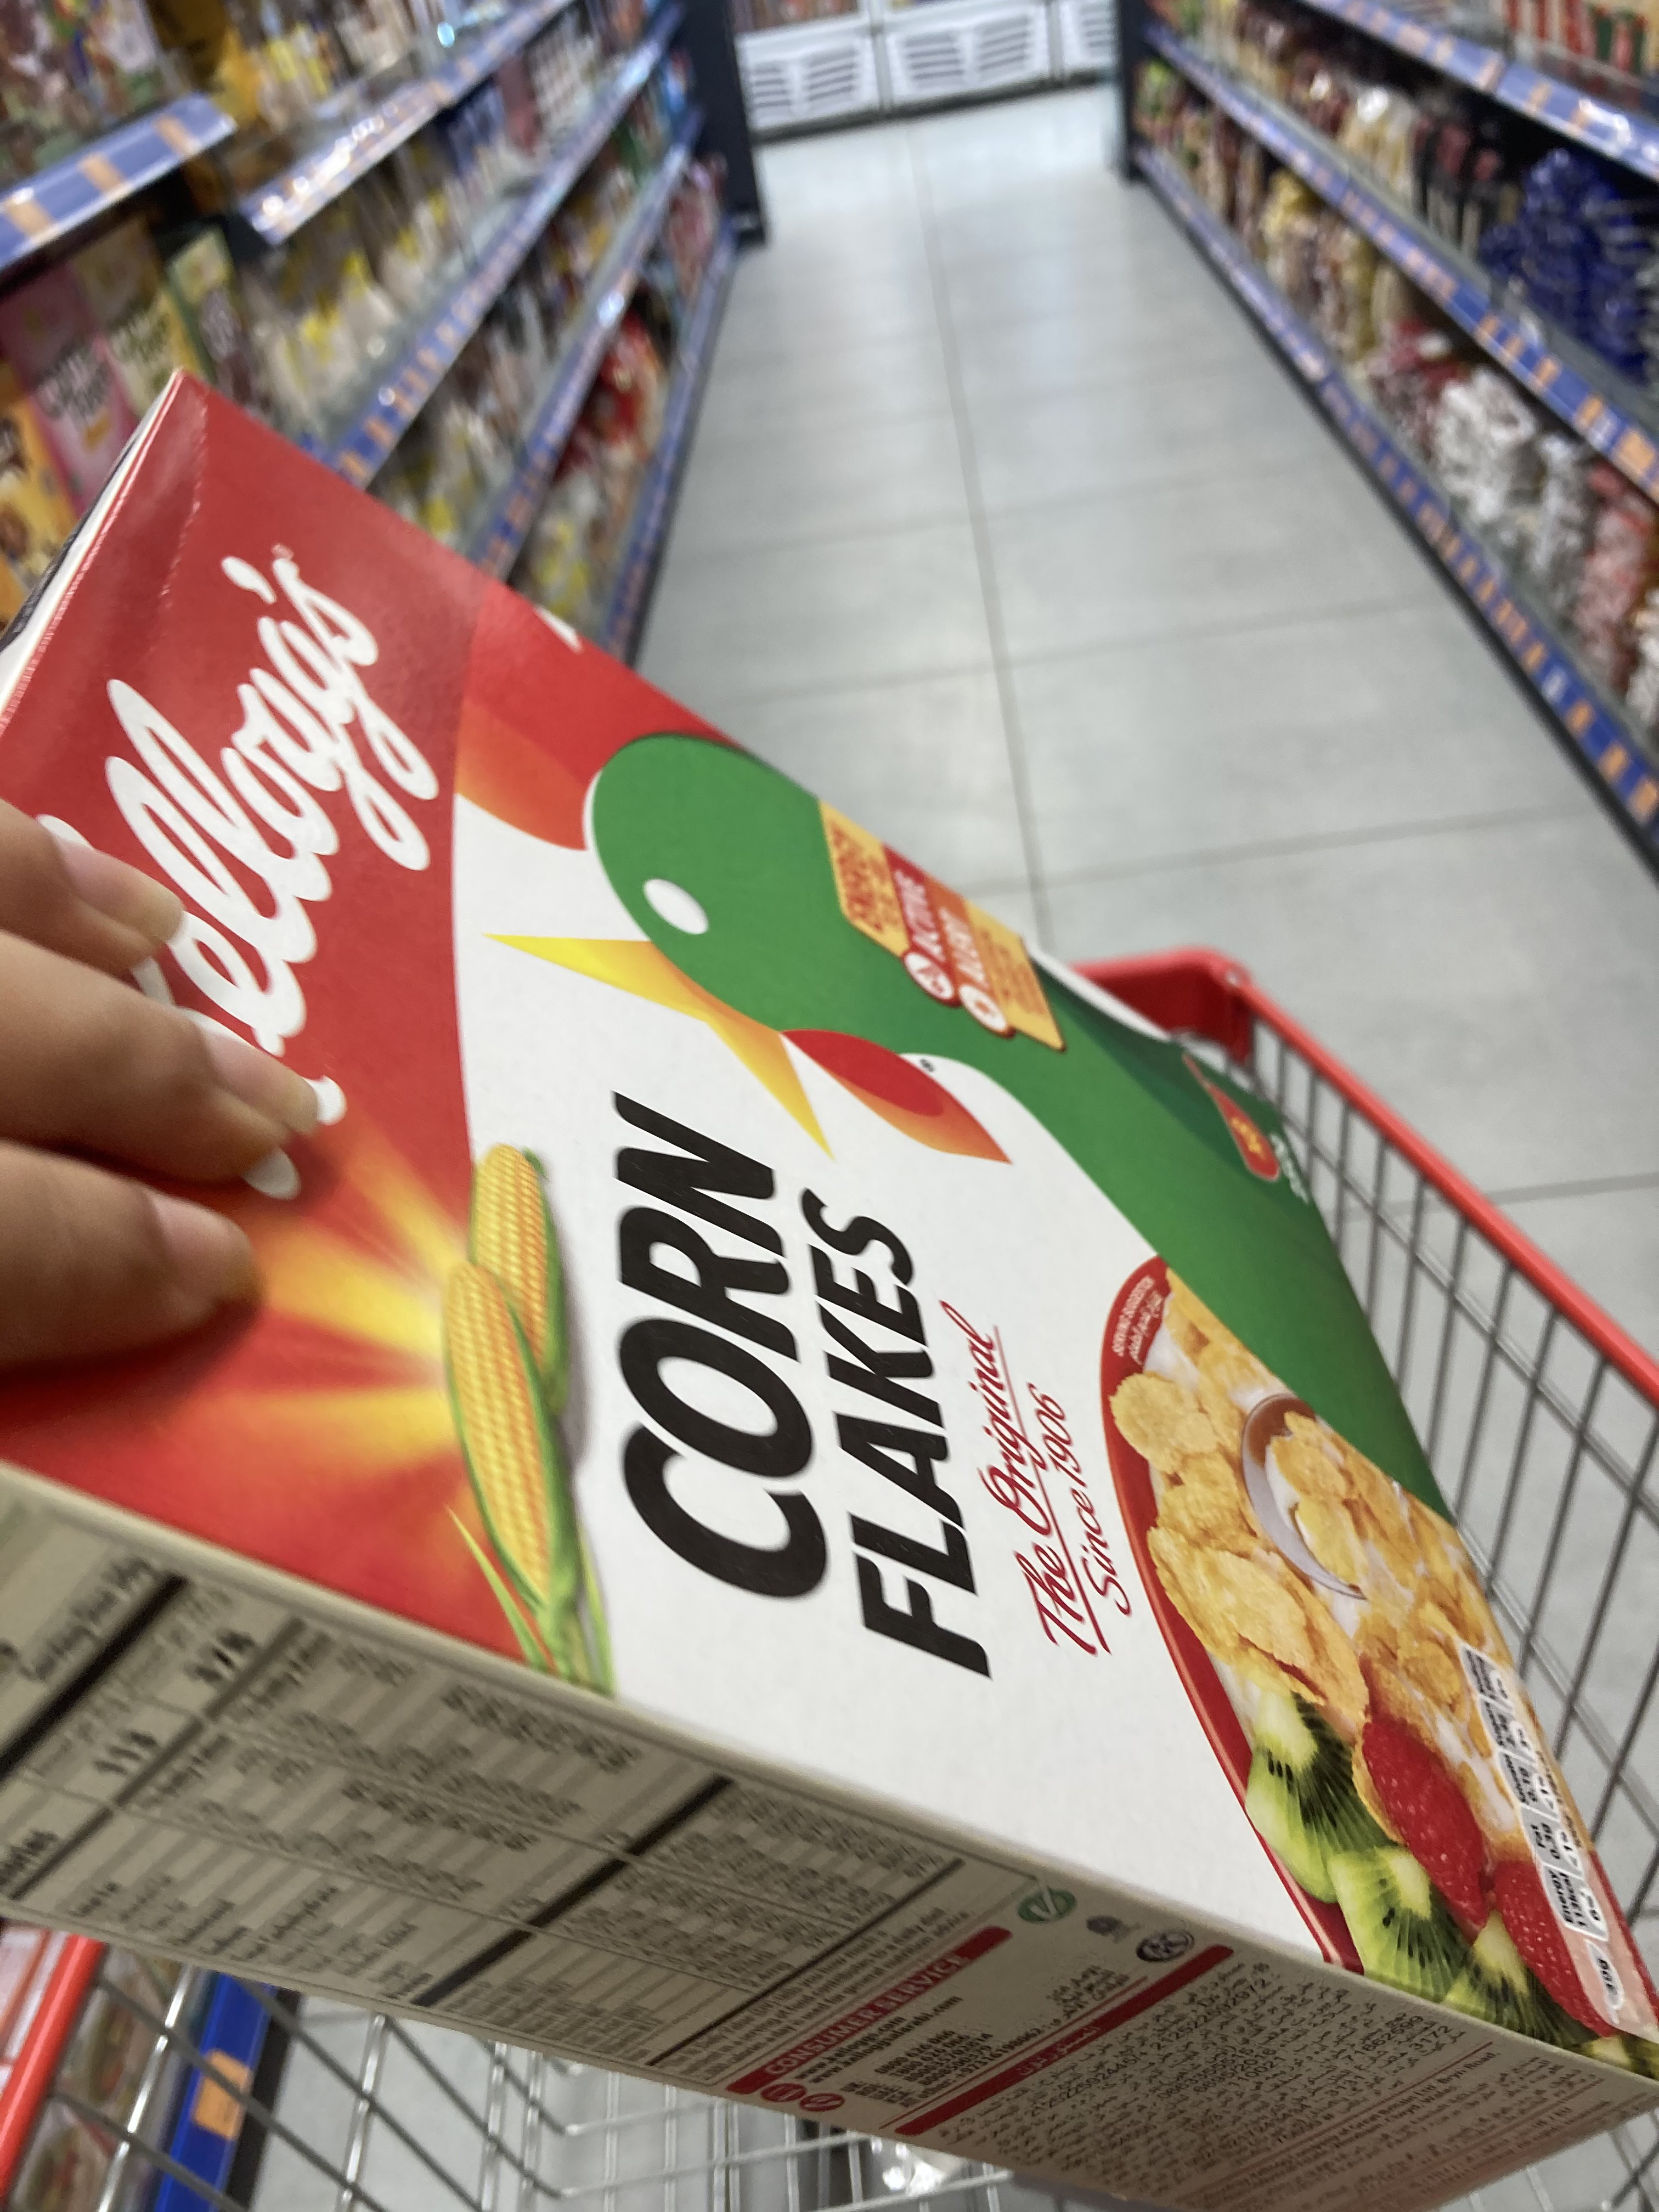Kellogg's Corn Flakes: (9, 362, 1659, 2212)
